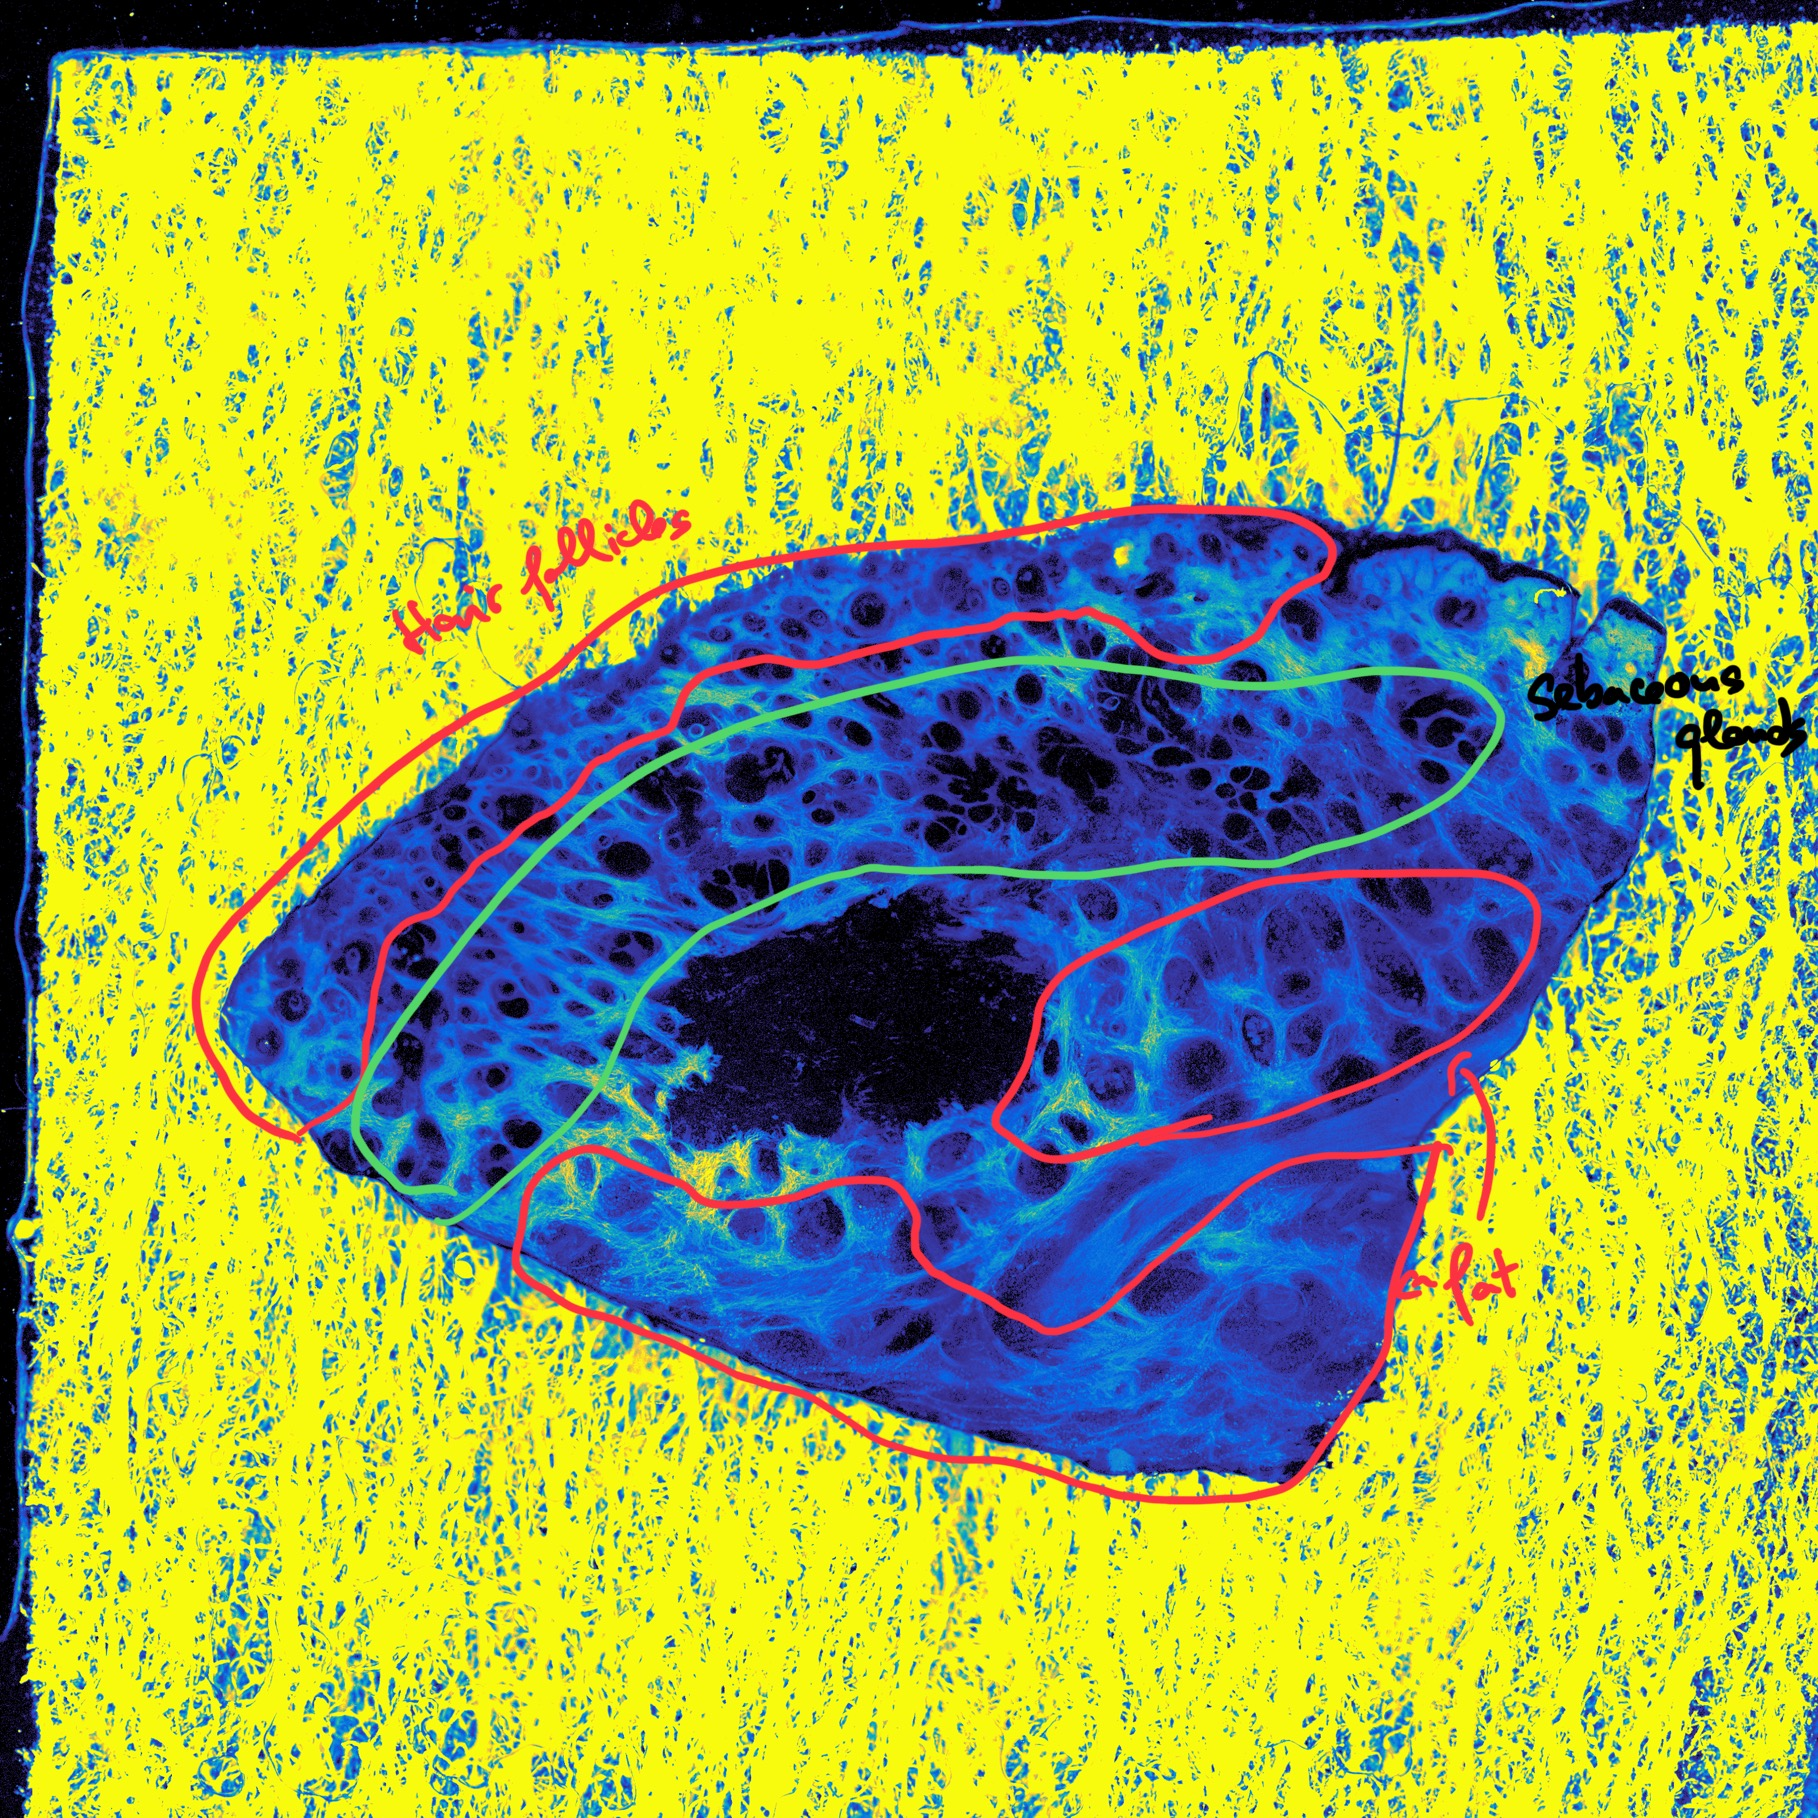HF: (927, 569, 982, 626), (837, 583, 892, 638), (238, 1021, 290, 1065), (1002, 566, 1056, 606), (268, 991, 316, 1027), (271, 949, 311, 991), (1195, 533, 1234, 574), (331, 941, 370, 981), (1229, 519, 1265, 558), (654, 639, 688, 673), (698, 623, 739, 648), (982, 574, 1012, 608), (351, 902, 383, 931), (436, 832, 468, 861), (802, 606, 831, 638), (739, 609, 769, 638), (781, 619, 811, 648), (1189, 584, 1217, 611), (401, 842, 433, 866), (1289, 543, 1315, 569), (416, 867, 441, 894), (441, 799, 469, 822), (375, 891, 396, 911)
